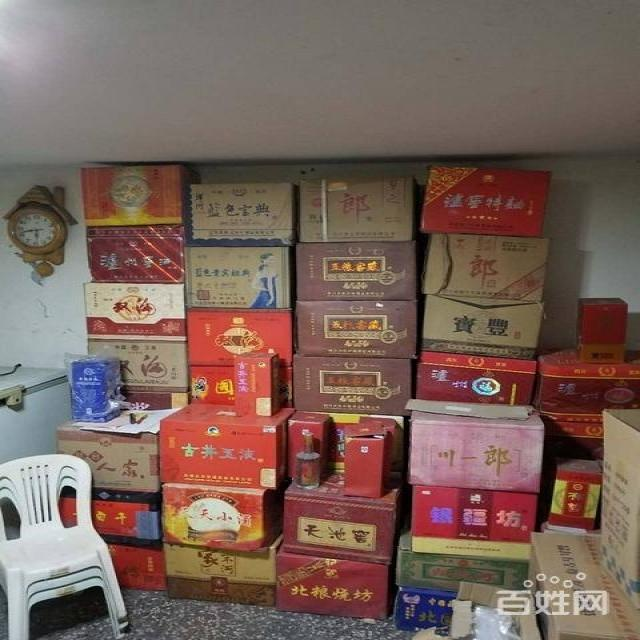box: (408, 396, 543, 491), (159, 398, 297, 488), (528, 531, 639, 639), (282, 468, 406, 557), (54, 408, 182, 490), (421, 166, 556, 236), (421, 233, 552, 304), (84, 162, 204, 239), (271, 549, 392, 620), (161, 536, 280, 606), (396, 532, 532, 593), (424, 293, 542, 362), (161, 482, 281, 549), (296, 177, 421, 241), (410, 482, 539, 543), (295, 299, 420, 360), (294, 352, 414, 415), (416, 582, 545, 639), (603, 405, 639, 608), (296, 241, 417, 300), (191, 182, 299, 248), (413, 348, 536, 405), (185, 306, 296, 366), (184, 245, 291, 307), (534, 348, 638, 408), (84, 282, 188, 341), (85, 337, 189, 389), (544, 457, 605, 532), (332, 414, 405, 475), (87, 237, 184, 282), (534, 402, 604, 463), (91, 485, 161, 545), (575, 296, 630, 364), (71, 358, 123, 421), (234, 350, 284, 414), (344, 422, 386, 498), (287, 412, 333, 480), (392, 586, 455, 632), (108, 541, 166, 589), (190, 364, 236, 405), (116, 390, 193, 410)
